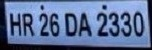character: (77, 12, 92, 37), (95, 12, 109, 37), (107, 11, 120, 37), (119, 11, 132, 37), (63, 12, 77, 36), (9, 12, 21, 37), (22, 13, 35, 36), (132, 11, 143, 37), (38, 12, 49, 37), (48, 12, 59, 37)
